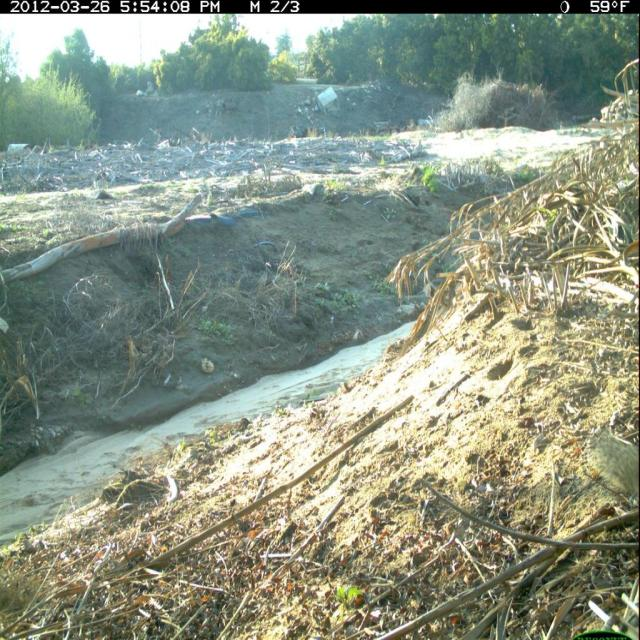squirrel: (576, 418, 640, 507)
